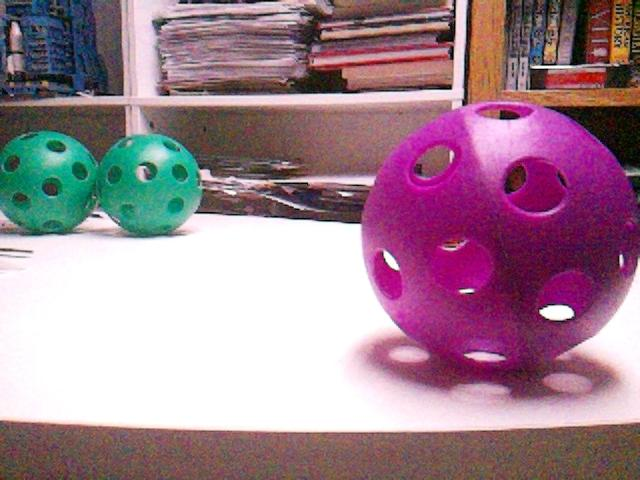Green: (92, 133, 200, 235), (0, 130, 101, 234)
Purple: (361, 104, 638, 372)
